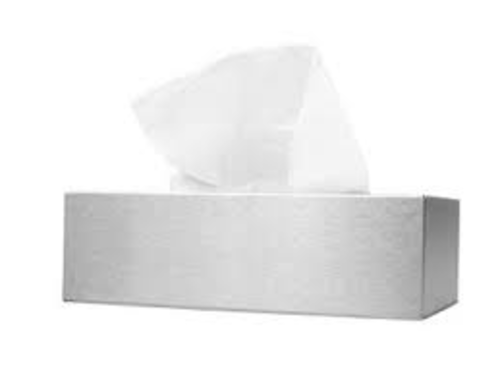Tissue: (131, 41, 373, 196)
